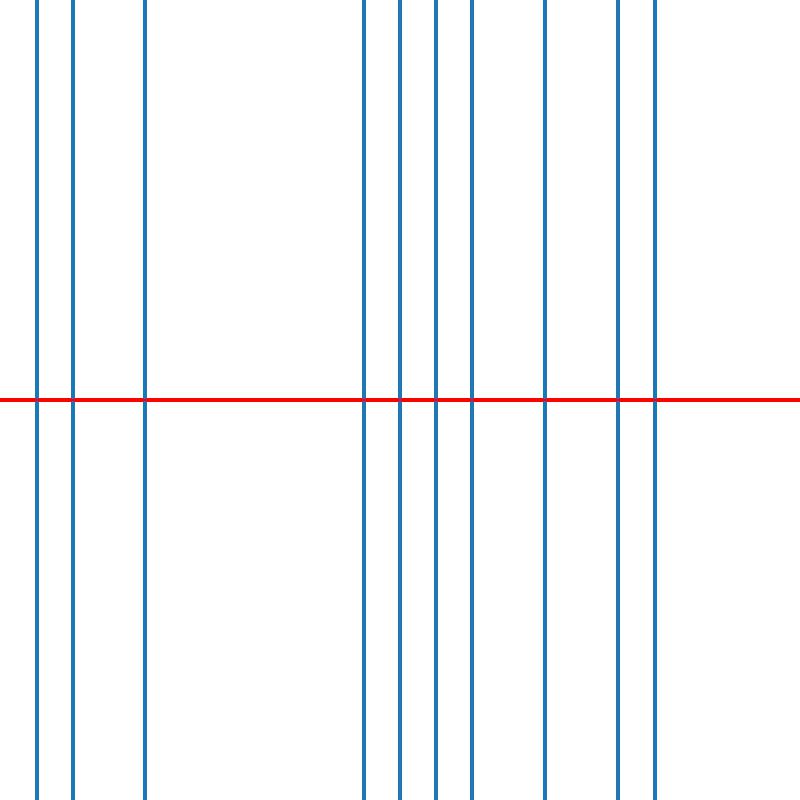root: (432, 396, 440, 404), (650, 396, 658, 404), (141, 396, 149, 404), (32, 396, 40, 404), (541, 396, 549, 404), (614, 396, 621, 404), (360, 396, 367, 404), (469, 396, 476, 404), (69, 396, 76, 404), (396, 396, 403, 404)
